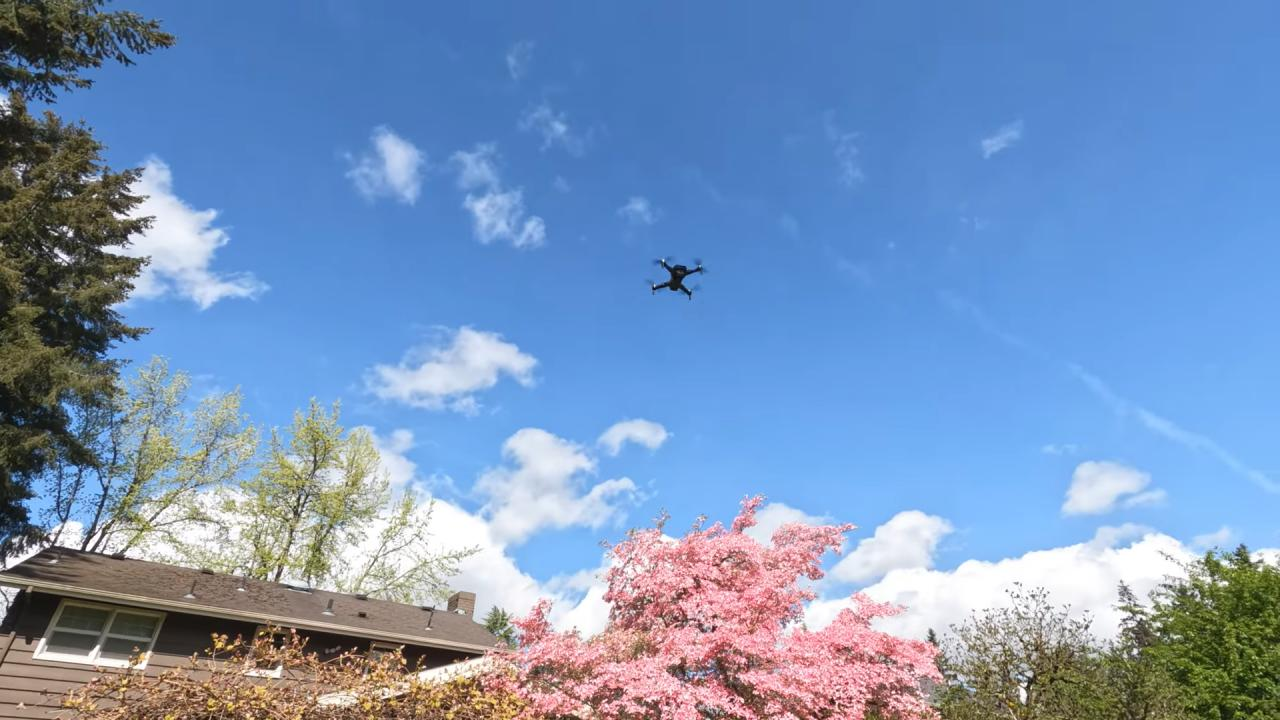Drone: (634, 244, 719, 316)
